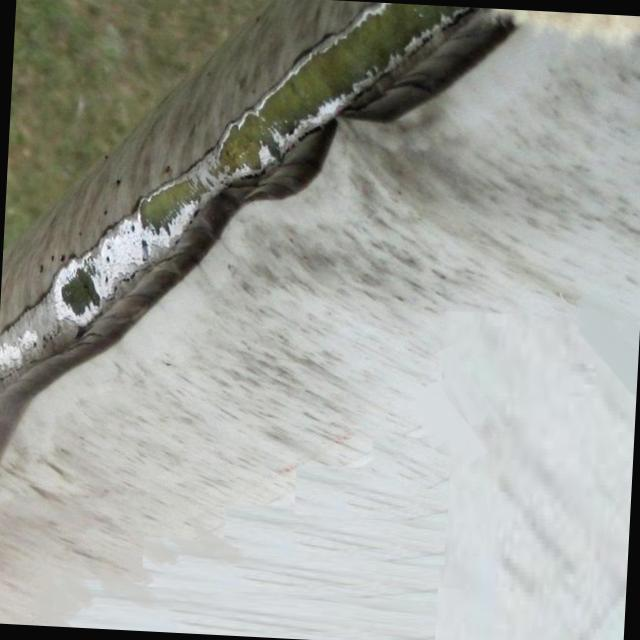crack: (3, 105, 332, 403), (342, 15, 516, 142)
